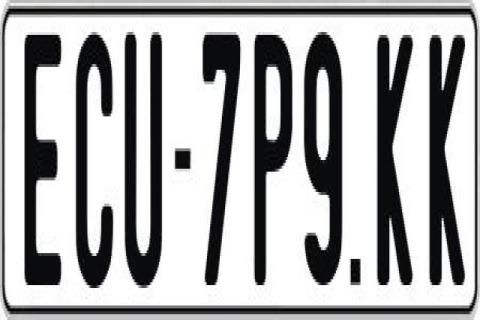0: (303, 27, 344, 280), (200, 35, 237, 297)
C: (73, 35, 114, 294)
E: (22, 26, 61, 276)
K: (378, 29, 413, 294), (430, 29, 465, 294)
P: (254, 26, 295, 282)
U: (124, 29, 167, 299)
